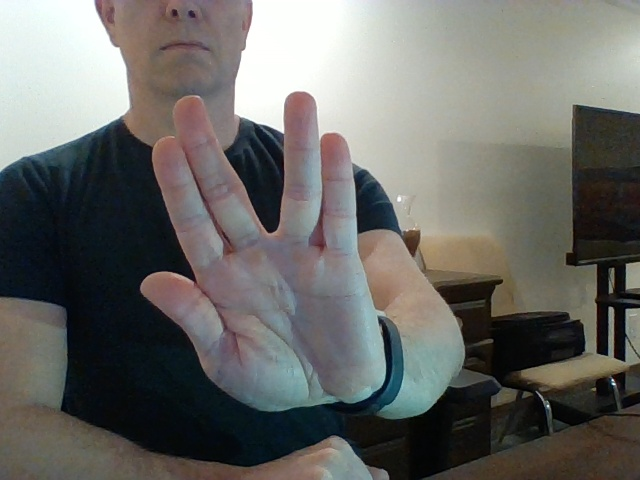LiveLong: (139, 91, 384, 412)
